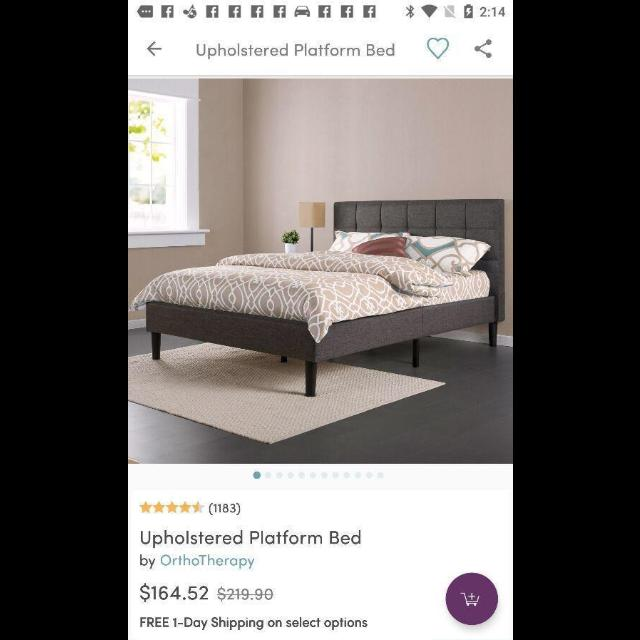button: (444, 572, 498, 626)
icon: (139, 501, 205, 514), (426, 38, 448, 60), (474, 40, 492, 59), (147, 42, 161, 56)
image: (128, 76, 512, 464)
pageindicator: (252, 472, 384, 481)
text: (140, 530, 360, 548), (139, 617, 367, 631), (196, 44, 394, 60), (139, 554, 255, 570), (140, 583, 208, 603), (216, 586, 274, 602), (208, 502, 240, 516)
toolbar: (128, 26, 512, 76)
uppertaskbar: (128, 1, 512, 23)
